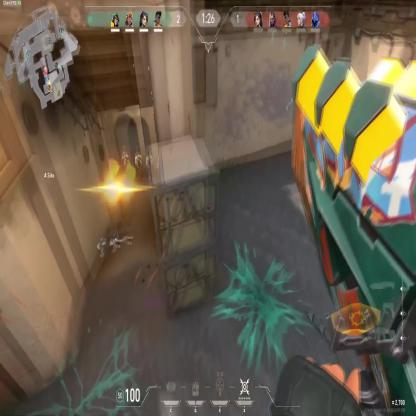enemy: (121, 147, 133, 183), (134, 149, 142, 181), (146, 153, 153, 181), (156, 153, 162, 182)
enemy_head: (122, 147, 126, 153), (136, 147, 138, 154)
